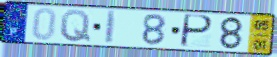0: (30, 7, 59, 42)
8: (218, 15, 246, 51), (142, 13, 167, 47)
I: (103, 10, 119, 46)
P: (178, 13, 215, 49)
Q: (59, 9, 92, 44)
